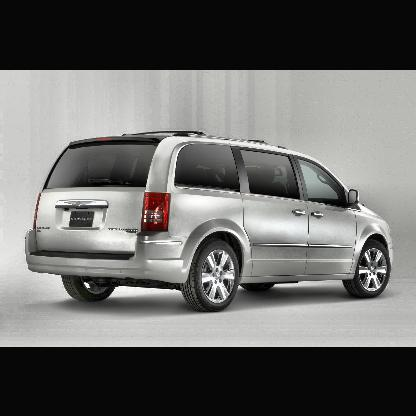Ram C-V Cargo Van Minivan 2012: (24, 128, 396, 310)
